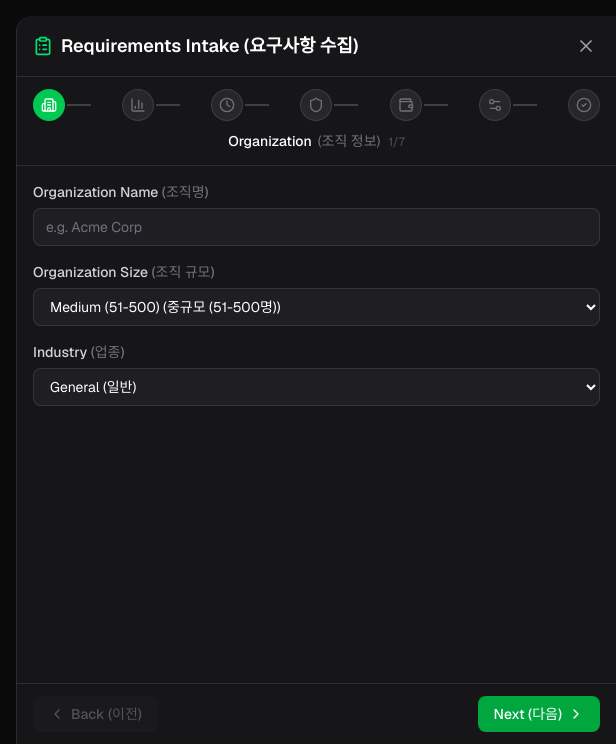
RequirementsWizardPanel › validates required fields on Scale step
The width and height of the screenshot is (616, 744).
What coordinates should you click on to do the following:
click the button "Next (다음)"
I would click on:
 (539, 714)
Its box is [478,696,600,732].
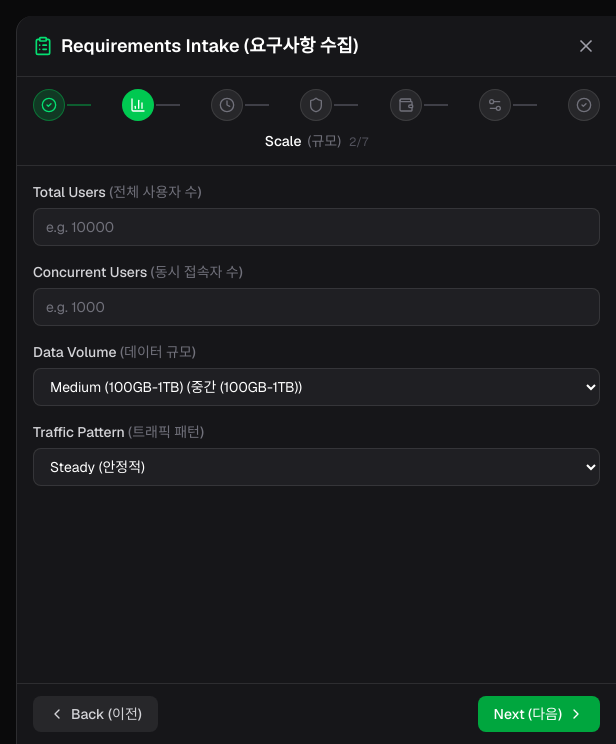
What coordinates should you click on to do the following:
click the button "Next (다음)"
I would click on:
 (539, 714)
Its box is [478,696,600,732].
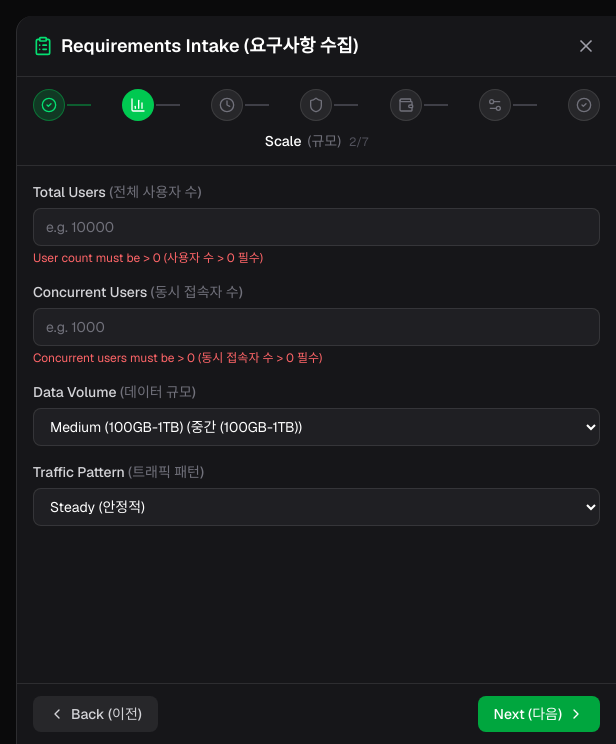
Check: the text "2/7" is shown, box [349,134,368,150]
Check: the text "User count must be > 0 (사용자 수 > 0 필수)" is shown, box [33,250,263,266]
